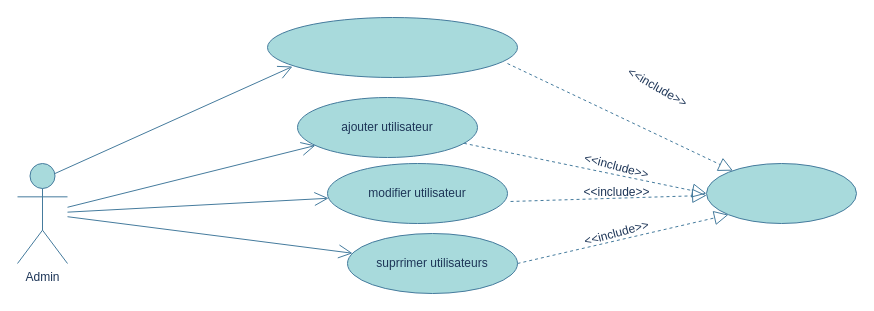
Image size: 874x311. Some labels were removed from this diagram. The centre of each missing label's shape, as x and y in pixels:
"authentification" goes at (x=781, y=193).
"gerer les utilisateurs" goes at (x=392, y=47).
